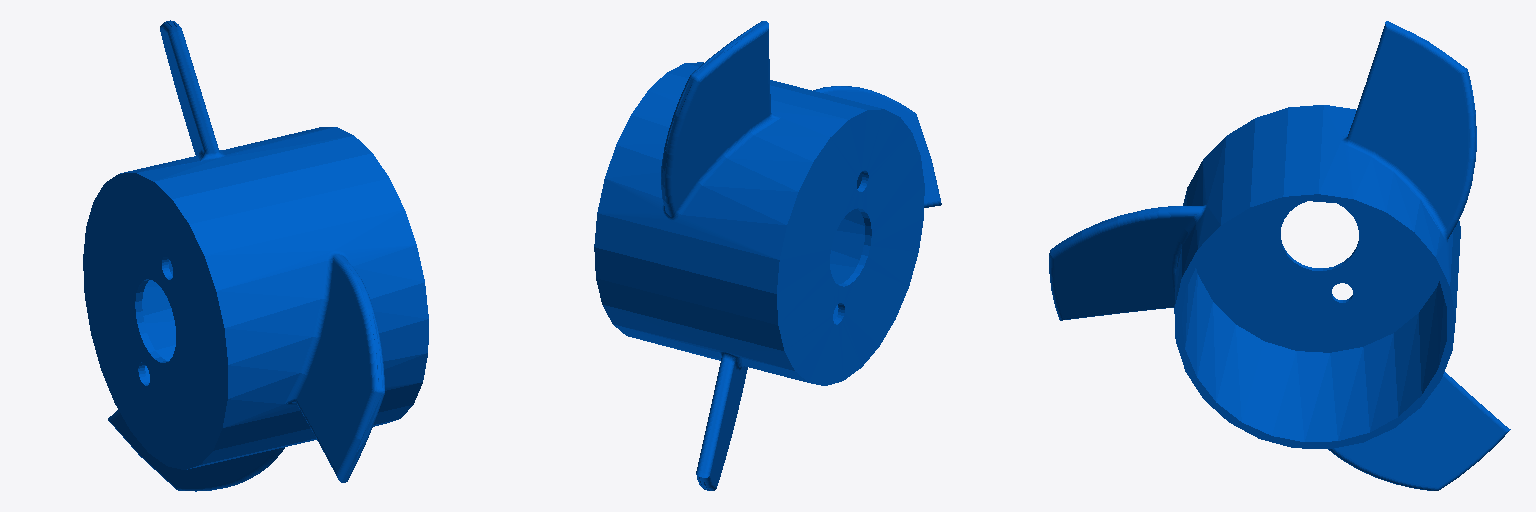
The robot description file, URDF, robot "aidboat":
<?xml version="1.0" encoding="utf-8"?>
<!-- =================================================================================== -->
<!-- |    This document was autogenerated by xacro from aidboat_gazebo3.urdf.xacro     | -->
<!-- |    EDITING THIS FILE BY HAND IS NOT RECOMMENDED                                 | -->
<!-- =================================================================================== -->
<robot name="aidboat">
  <link name="base_link">
	</link>
  <joint name="dummy_joint" type="fixed">
    <parent link="base_link"/>
    <child link="dummy_link"/>
  </joint>
  <link name="dummy_link">
    <inertial>
      <mass value="32.712"/>
      <origin rpy="0 0 0" xyz="0 0.26377 0.02064"/>
      <inertia ixx="4.662514672" ixy="0" ixz="0" iyy="12.57628507" iyz="0" izz="15.22053986"/>
    </inertial>
    <collision name="top_base">
      <origin rpy="0 0 0" xyz="0 0 0.1255"/>
      <geometry>
        <box size="0.73 1.15767 0.251"/>
      </geometry>
    </collision>
    <collision name="right_hull">
      <origin rpy="0 0 -0.0244346" xyz="0.273998 0.447 -0.146"/>
      <geometry>
        <box size="2.002 0.286 0.292"/>
      </geometry>
    </collision>
    <collision name="left_hull">
      <origin rpy="0 0 0.0244346" xyz="0.273998 -0.447 -0.146"/>
      <geometry>
        <box size="2.002 0.286 0.292"/>
      </geometry>
    </collision>
    <visual>
      <origin rpy="0 0 0" xyz="0 0 0.292"/>
      <geometry>
        <mesh filename="package://aidboat_description/meshes/AIDBOAT_Base.dae"/>
      </geometry>
    </visual>
  </link>
  <link name="right_engine_link">
    <visual>
      <origin rpy="0 0 0.0244346" xyz="0 0 0"/>
      <geometry>
        <mesh filename="package://aidboat_description/meshes/right_engine.dae"/>
      </geometry>
    </visual>
    <collision>
      <origin rpy="0 1.5708 0.0244346" xyz="0.011 0 0"/>
      <geometry>
        <cylinder length="0.113" radius="0.05"/>
      </geometry>
    </collision>
    <inertial>
      <mass value="0.126"/>
      <inertia ixx="0.00002900992" ixy="0" ixz="0" iyy="0.00002900992" iyz="0" izz="0.0001575"/>
    </inertial>
  </link>
  <link name="right_propeller_link">
    <visual>
      <origin rpy="0 0 0.0244346" xyz="0 0 0"/>
      <geometry>
        <mesh filename="package://aidboat_description/meshes/right_propeller.dae"/>
      </geometry>
    </visual>
    <collision>
      <origin rpy="0 1.5708 0.0244346" xyz="0.011 0 0"/>
      <geometry>
        <cylinder length="0.03" radius="0.0381"/>
      </geometry>
    </collision>
    <inertial>
      <mass value="0.030"/>
      <inertia ixx="0.00000058378" ixy="0" ixz="0" iyy="0.00000058378" iyz="0" izz="0.00002177415"/>
    </inertial>
  </link>
  <joint name="right_chasis_engine_joint" type="fixed">
    <origin rpy="0 0 0" xyz="-0.741 -0.47 -0.016"/>
    <parent link="base_link"/>
    <child link="right_engine_link"/>
  </joint>
  <joint name="right_engine_propeller_joint" type="continuous">
    <axis rpy="0 0 0" xyz="1 0 0"/>
    <parent link="right_engine_link"/>
    <child link="right_propeller_link"/>
    <origin rpy="0 0 0" xyz="0 0 0"/>
    <limit effort="0.7250" velocity="369.97489"/>
    <dynamics damping="0.05" friction="0.05"/>
  </joint>
  <link name="left_engine_link">
    <visual>
      <origin rpy="0 0 -0.0244346" xyz="0 0 0"/>
      <geometry>
        <mesh filename="package://aidboat_description/meshes/left_engine.dae"/>
      </geometry>
    </visual>
    <collision>
      <origin rpy="0 1.5708 -0.0244346" xyz="0.011 0 0"/>
      <geometry>
        <cylinder length="0.113" radius="0.05"/>
      </geometry>
    </collision>
    <inertial>
      <mass value="0.126"/>
      <inertia ixx="0.00002900992" ixy="0" ixz="0" iyy="0.00002900992" iyz="0" izz="0.0001575"/>
    </inertial>
  </link>
  <link name="left_propeller_link">
    <visual>
      <origin rpy="0 0 -0.0244346" xyz="0 0 0"/>
      <geometry>
        <mesh filename="package://aidboat_description/meshes/left_propeller.dae"/>
      </geometry>
    </visual>
    <collision>
      <origin rpy="0 1.5708 -0.0244346" xyz="0.011 0 0"/>
      <geometry>
        <cylinder length="0.03" radius="0.0381"/>
      </geometry>
    </collision>
    <inertial>
      <mass value="0.030"/>
      <inertia ixx="0.00000058378" ixy="0" ixz="0" iyy="0.00000058378" iyz="0" izz="0.00002177415"/>
    </inertial>
  </link>
  <joint name="left_chasis_engine_joint" type="fixed">
    <origin rpy="0 0 0" xyz="-0.741 0.47 -0.016"/>
    <parent link="base_link"/>
    <child link="left_engine_link"/>
  </joint>
  <joint name="left_engine_propeller_joint" type="continuous">
    <axis rpy="0 0 0" xyz="1 0 0"/>
    <parent link="left_engine_link"/>
    <child link="left_propeller_link"/>
    <origin rpy="0 0 0" xyz="0 0 0"/>
    <limit effort="0.7250" velocity="369.97489"/>
    <dynamics damping="0.05" friction="0.05"/>
  </joint>
  <gazebo>
    <plugin filename="libusv_gazebo_thrust_plugin.so" name="aidboat_gazebo_thrust">
      <cmdTimeout>1.0</cmdTimeout>
      <thruster>
        <linkName>left_engine_link</linkName>
        <propJointName>left_engine_propeller_joint</propJointName>
        <engineJointName>left_chasis_engine_joint</engineJointName>
        <cmdTopic>left_thrust_cmd</cmdTopic>
        <angleTopic>left_thrust_angle</angleTopic>
        <enableAngle>false</enableAngle>
      </thruster>
      <thruster>
        <linkName>right_engine_link</linkName>
        <propJointName>right_engine_propeller_joint</propJointName>
        <engineJointName>right_chasis_engine_joint</engineJointName>
        <cmdTopic>right_thrust_cmd</cmdTopic>
        <angleTopic>right_thrust_angle</angleTopic>
        <enableAngle>false</enableAngle>
      </thruster>
    </plugin>
  </gazebo> 
  <!-- Gazebo Plugin for simulating boat dynamics -->
  <gazebo>
    <plugin filename="libusv_gazebo_dynamics_plugin.so" name="usv_dynamics_aidboat">
      <bodyName>base_link</bodyName>
      <!-- Must be same as the oxean model! -->
      <waterLevel>0</waterLevel>
      <waterDensity>997.8</waterDensity>
      <!-- Added mass -->
      <xDotU>0.0</xDotU>
      <yDotV>0.0</yDotV>
      <nDotR>0.0</nDotR>
      <!-- Linear and quadratic drag -->
      <xU>51.3</xU>
      <xUU>72.4</xUU>
      <yV>40.0</yV>
      <yVV>0.0</yVV>
      <zW>500.0</zW>
      <kP>50.0</kP>
      <mQ>50.0</mQ>
      <nR>400.0</nR>
      <nRR>0.0</nRR>
      <!-- General dimensions -->
      <!-- <boatArea>2.2</boatArea> -->
      <hullRadius>0.213</hullRadius>
      <boatWidth>1.15767</boatWidth>
      <boatLength>2.05992</boatLength>
      <!-- Length discretazion, AKA, "N" -->
      <length_n>2</length_n>
      <!-- Wave model -->
      <wave_model>ocean_waves</wave_model>
    </plugin>
  </gazebo>
  <!-- == Thrusters ==
<xacro:include filename="$(find aidboat_gazebo)/urdf/aidboat_aft_thrusters2.xacro" />
<xacro:include filename="$(find aidboat_description)/urdf/thrusters3.xacro" />
<xacro:engine prefix="left" reflect="-1" reflect2="1" />
<xacro:engine prefix="right" reflect="1" reflect2="-1" /> -->
</robot>

--- What the picture shows (computed from the rendered views, not written in the file) ---
3 views of the same robot in one strip: view 1: azimuth 30°, elevation 25°; view 2: azimuth 150°, elevation 25°; view 3: azimuth 270°, elevation 25° (orthographic).
Robot: aidboat — 6 links, 5 joints (2 continuous, 3 fixed); root link base_link; default pose: every joint at zero.
Visible links, largest first — view 1: left_propeller_link; view 2: left_propeller_link; view 3: left_propeller_link.
Boxes of the visible links, x1,y1,x2,y2 form: left_propeller_link: (83, 20, 428, 491); left_propeller_link: (594, 21, 941, 490); left_propeller_link: (1049, 21, 1510, 490).
Size in the robot's own frame: 0.031 by 0.0654 by 0.0711 metres.
Meshes: 5 distinct files referenced, 1 mesh visuals loaded (1 Collada DAE); not drawn: 4 (reference not matched to a file when rendering).